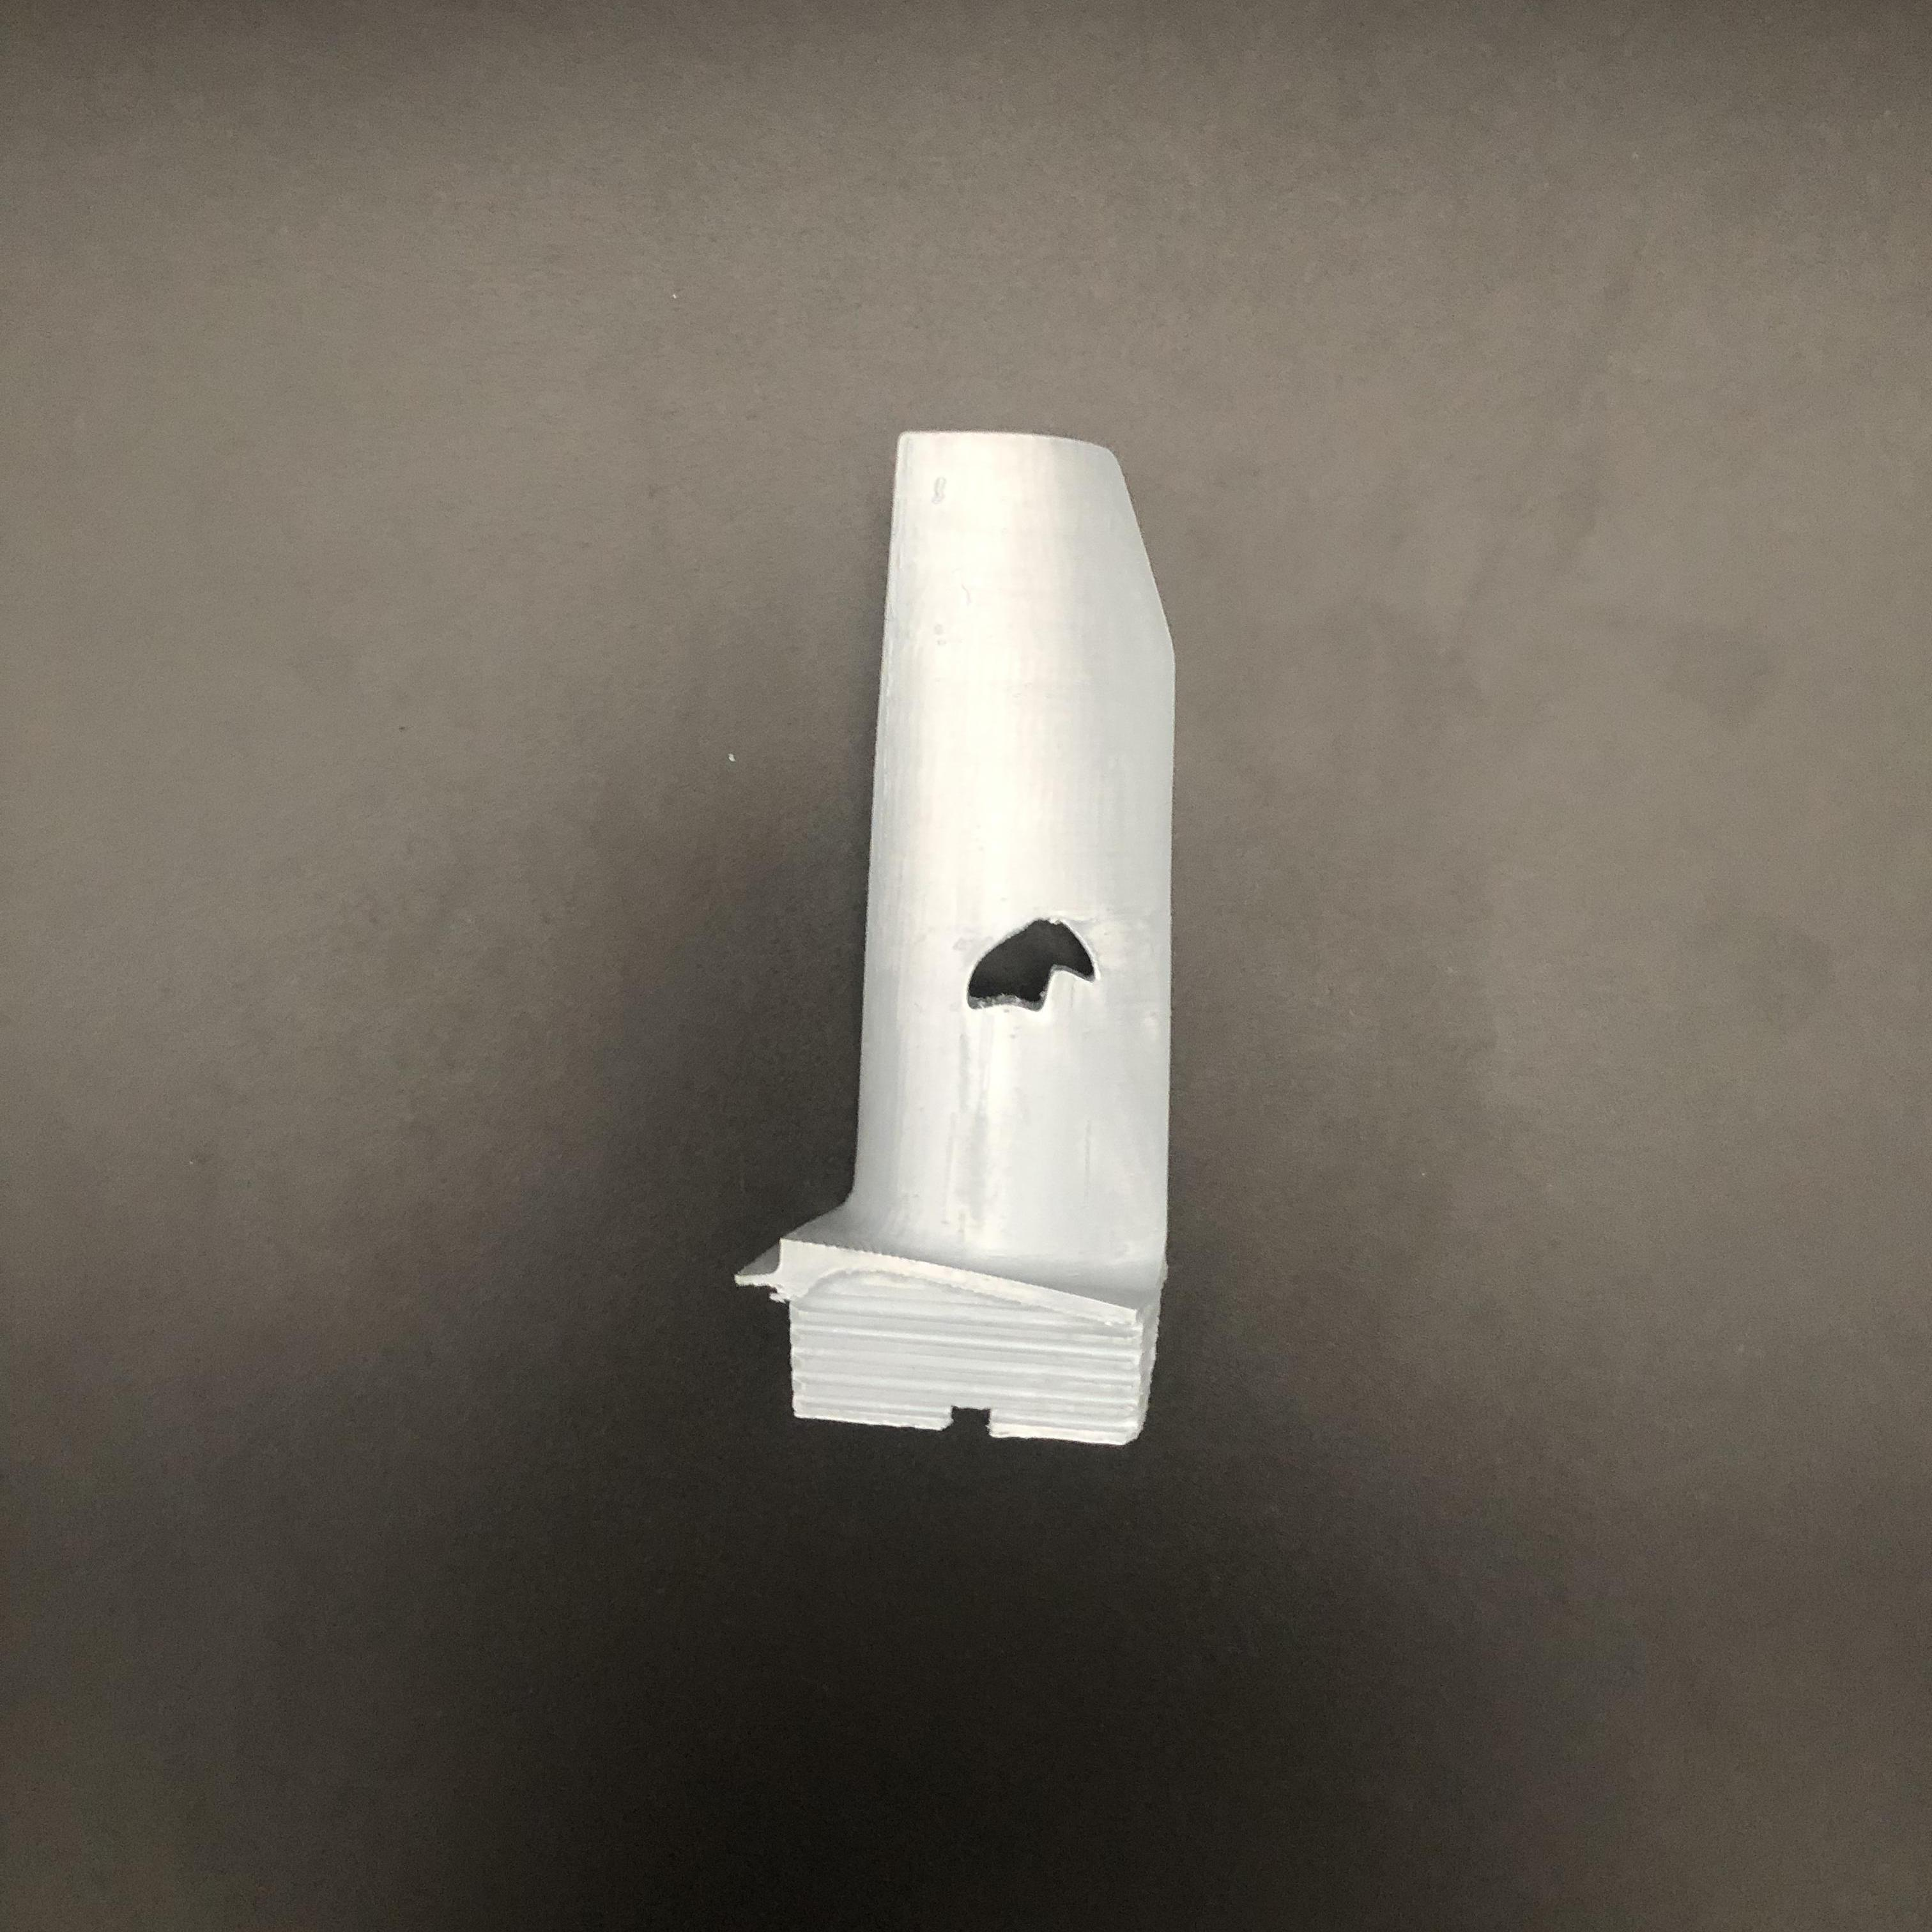breakdown: (964, 908, 1106, 1026)
